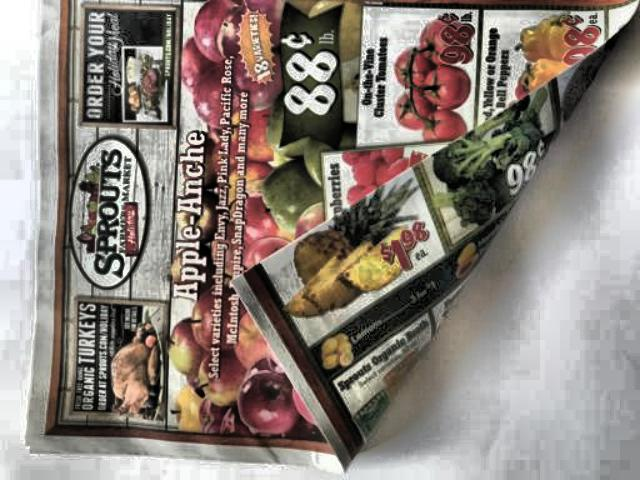Paper: (40, 0, 640, 449)
